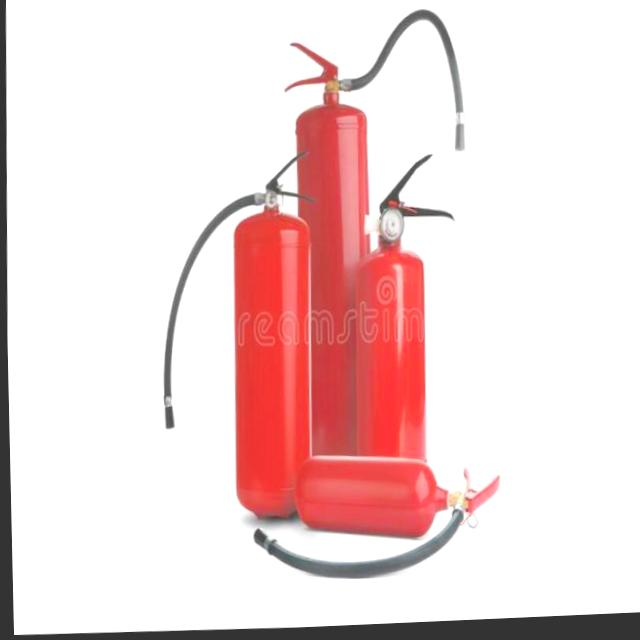FireExtinguisher: (271, 4, 478, 521), (148, 143, 324, 538), (338, 155, 465, 511), (240, 439, 512, 594)
